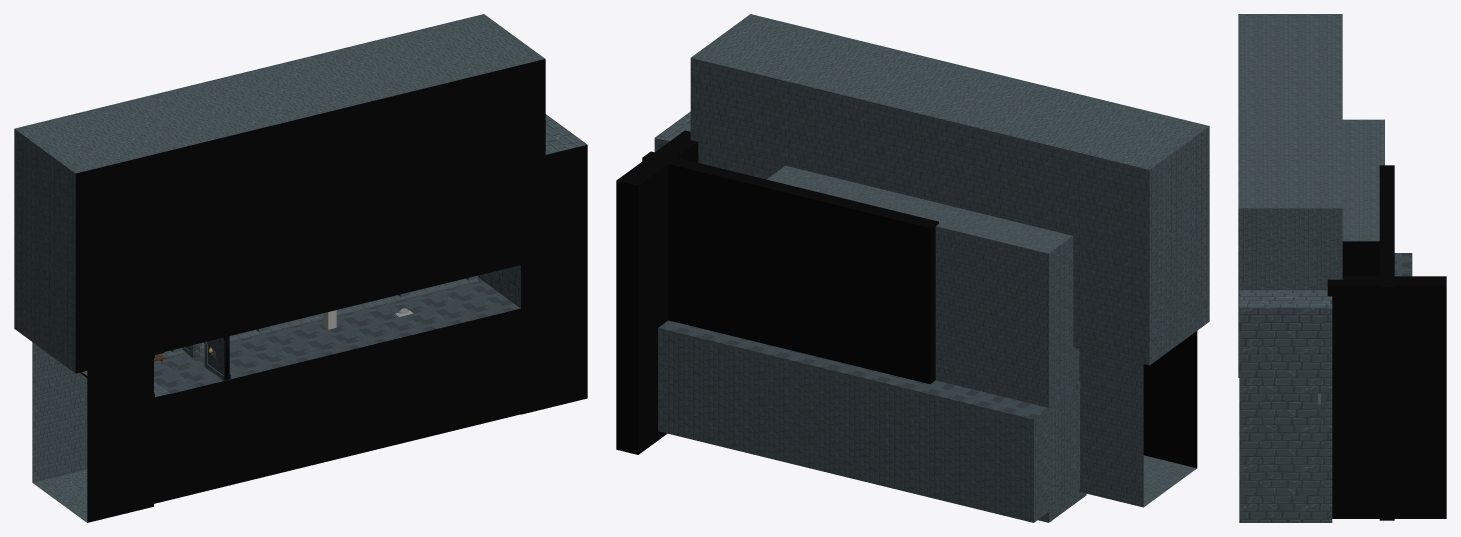
File: Placeholder_2.fbx
3 views of the same model, side by side, from view 1: azimuth 30°, elevation 25°; view 2: azimuth 150°, elevation 25°; view 3: azimuth 270°, elevation 25° (orthographic). The views are drawn at different scales.
Parts seen in each view (by area): view 1: ceiling4, floor, left, left1, wall_1, lining_13; view 2: ceiling4, floor, back1, back, left, back2; view 3: ceiling4, back2, left1, back, back1, floor.
Part boxes in pixels (<box>): ceiling4: <box>14,14,545,373</box>; floor: <box>152,277,520,504</box>; left: <box>32,342,153,522</box>; left1: <box>478,114,587,414</box>; wall_1: <box>185,336,229,379</box>; lining_13: <box>374,278,479,305</box>; ceiling4: <box>690,14,1209,365</box>; floor: <box>658,320,1079,522</box>; back1: <box>642,151,938,383</box>; back: <box>767,165,1086,522</box>; left: <box>1079,331,1197,507</box>; back2: <box>616,130,698,454</box>; ceiling4: <box>1238,14,1342,377</box>; back2: <box>1327,276,1446,518</box>; left1: <box>1239,290,1332,522</box>; back: <box>1342,119,1384,276</box>; back1: <box>1379,165,1394,520</box>; floor: <box>1394,253,1412,276</box>.
Bounding box in the file's own units: 5624 × 3603 × 2216.
12 materials, 7 textured.
